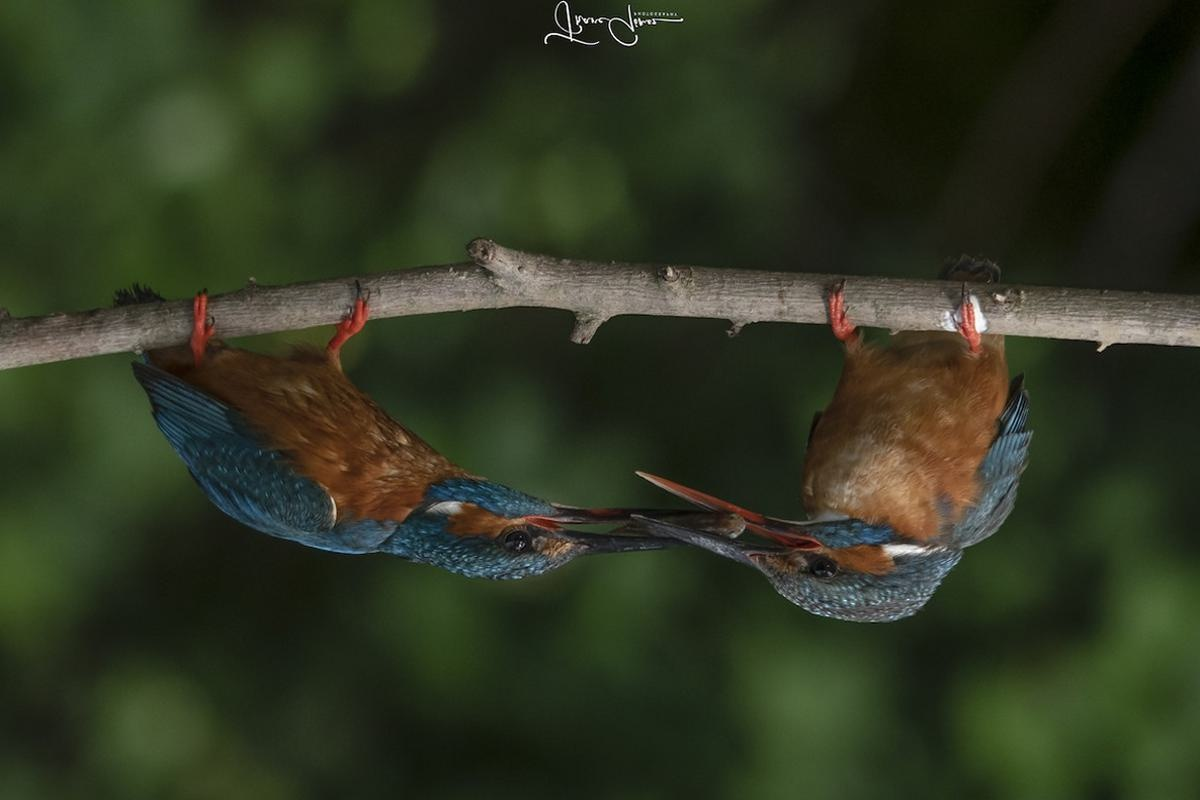kingfisher: (83, 257, 670, 626), (644, 290, 1048, 636)
